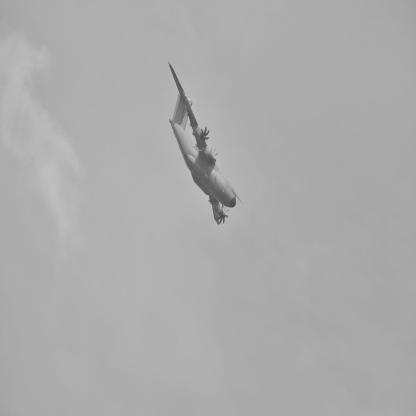A400M: (169, 62, 244, 226)
